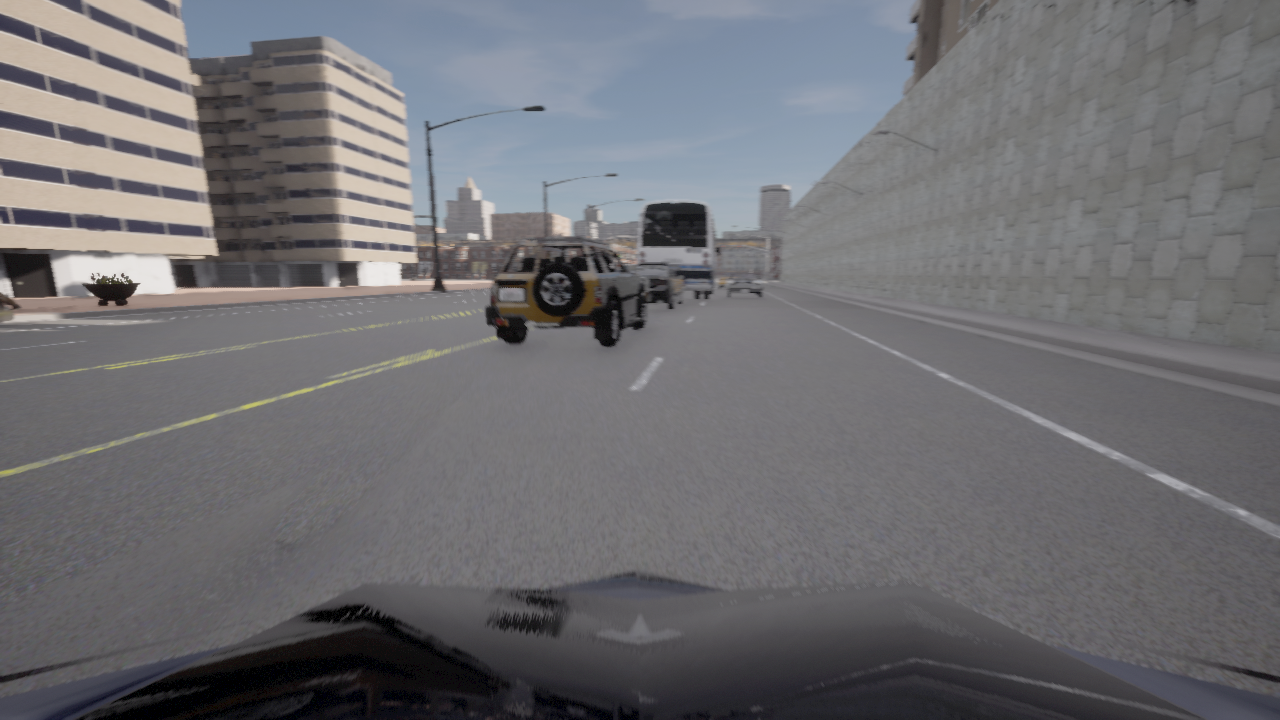cyclist: (0, 569, 1279, 719), (486, 236, 649, 347), (637, 199, 720, 299), (631, 262, 683, 309), (726, 272, 763, 297), (718, 269, 738, 288)
